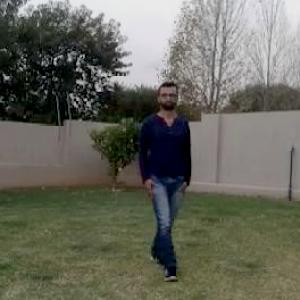follow: (144, 88, 186, 260)
